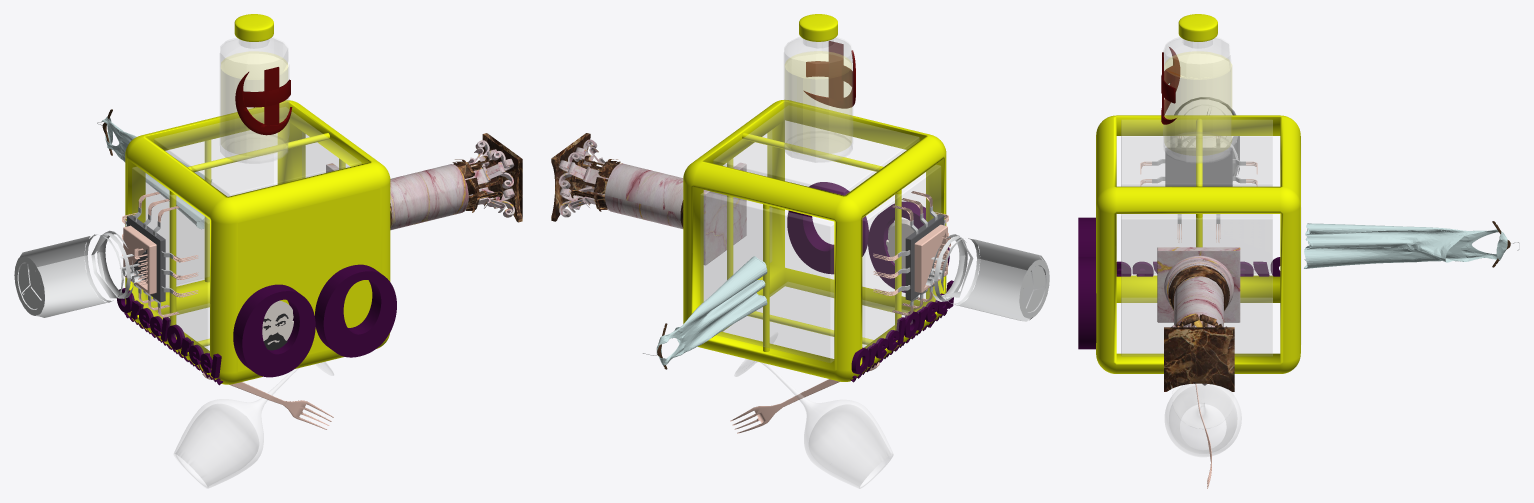
Rendered from ooHEX.glb.
3 views of the same model, side by side, from view 1: azimuth 30°, elevation 25°; view 2: azimuth 150°, elevation 25°; view 3: azimuth 270°, elevation 25° (orthographic).
Visible parts, largest first — view 1: HEX, OO, RMDY, CTHD, cth9, MRKT_bottle, nurbsToPoly1, GRMN, MRKT_bottleLiquid, BDY, OreelOreel, DRESS (+15 smaller); view 2: HEX, GRMN, MRKT_bottle, RMDY, CTHD, cth9, MRKT_bottleLiquid, nurbsToPoly1, GRNT, FDBV, OO, DRESS (+18 smaller); view 3: HEX, GRNT, CTHD, MRKT_bottle, RMDY, DRESS, MRKT_bottleLiquid, nurbsToPoly1, crown, FDBV, pCube43, OO (+8 smaller).
Part boxes in pixels (x1=…): HEX: x1=125, y1=100, x2=390, y2=384; OO: x1=233, y1=264, x2=396, y2=377; RMDY: x1=154, y1=109, x2=361, y2=196; CTHD: x1=132, y1=167, x2=209, y2=353; cth9: x1=14, y1=230, x2=139, y2=317; MRKT_bottle: x1=220, y1=37, x2=289, y2=163; nurbsToPoly1: x1=174, y1=362, x2=333, y2=488; GRMN: x1=146, y1=138, x2=273, y2=286; MRKT_bottleLiquid: x1=221, y1=52, x2=287, y2=155; BDY: x1=390, y1=164, x2=468, y2=230; OreelOreel: x1=117, y1=288, x2=221, y2=378; DRESS: x1=101, y1=116, x2=211, y2=229; HEX: x1=683, y1=100, x2=946, y2=381; GRMN: x1=700, y1=192, x2=833, y2=362; MRKT_bottle: x1=784, y1=37, x2=852, y2=162; RMDY: x1=713, y1=109, x2=919, y2=195; CTHD: x1=862, y1=165, x2=940, y2=349; cth9: x1=930, y1=234, x2=1049, y2=321; MRKT_bottleLiquid: x1=785, y1=51, x2=851, y2=154; nurbsToPoly1: x1=734, y1=359, x2=893, y2=488; GRNT: x1=704, y1=130, x2=771, y2=300; FDBV: x1=722, y1=282, x2=908, y2=358; OO: x1=787, y1=182, x2=949, y2=292; DRESS: x1=656, y1=256, x2=767, y2=365; HEX: x1=1096, y1=115, x2=1300, y2=373; GRNT: x1=1121, y1=215, x2=1272, y2=356; CTHD: x1=1121, y1=136, x2=1272, y2=273; MRKT_bottle: x1=1163, y1=37, x2=1230, y2=163; RMDY: x1=1121, y1=120, x2=1272, y2=186; DRESS: x1=1304, y1=223, x2=1507, y2=268; MRKT_bottleLiquid: x1=1165, y1=52, x2=1231, y2=155; nurbsToPoly1: x1=1165, y1=384, x2=1241, y2=456; crown: x1=1164, y1=327, x2=1234, y2=391; FDBV: x1=1121, y1=298, x2=1272, y2=352; pCube43: x1=1157, y1=247, x2=1240, y2=322; OO: x1=1078, y1=217, x2=1096, y2=349.
Bounding box in the file's own units: 14.46 × 13.33 × 11.74.
19 materials, 2 textured.
